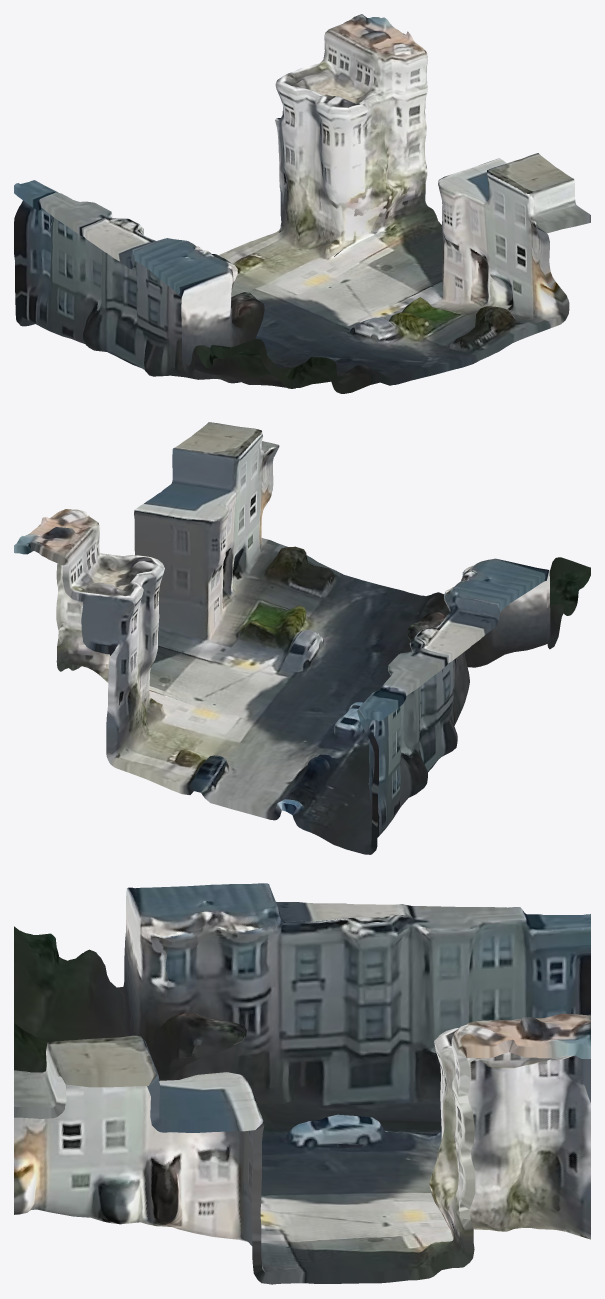
The model's file is z20-167750-405194-h0-yup-uvflip-v3-world.glb.
3 renders of one model, top to bottom at view 1: azimuth 30°, elevation 25°; view 2: azimuth 150°, elevation 25°; view 3: azimuth 270°, elevation 25°, orthographic. The views are drawn at different scales.
Bounding box in the file's own units: 30.16 × 18.28 × 30.32.
1 material, 1 textured.
